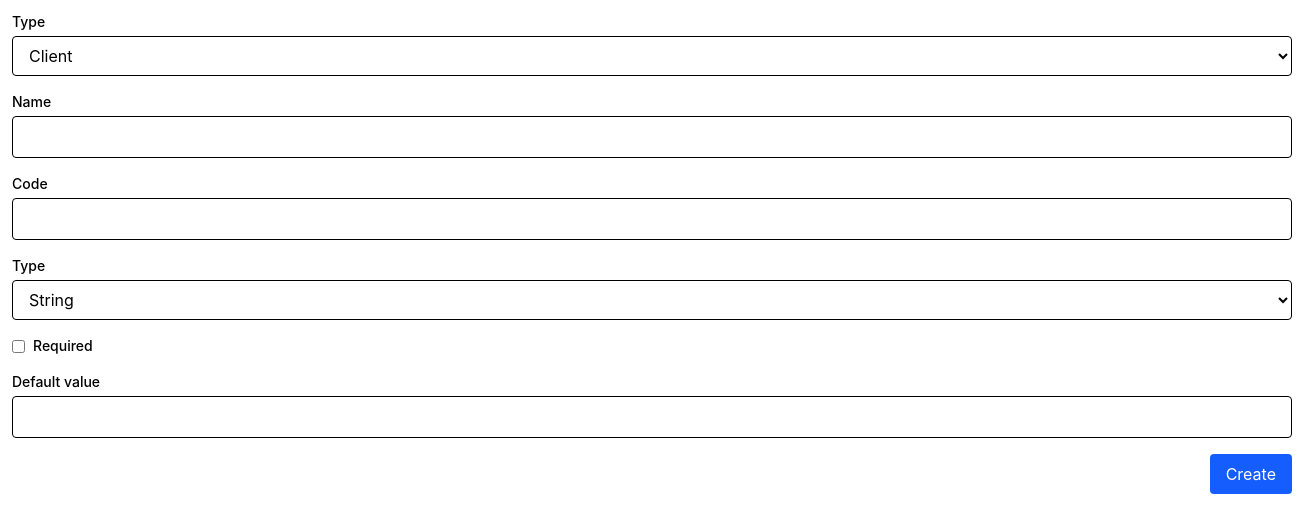
Test: EavAttributeForm › auto-generates code by transliterating Cyrillic names
Step 1. Type "Дата рождения" into the field labelled "Name" → (652, 137), box [12,116,1292,158]
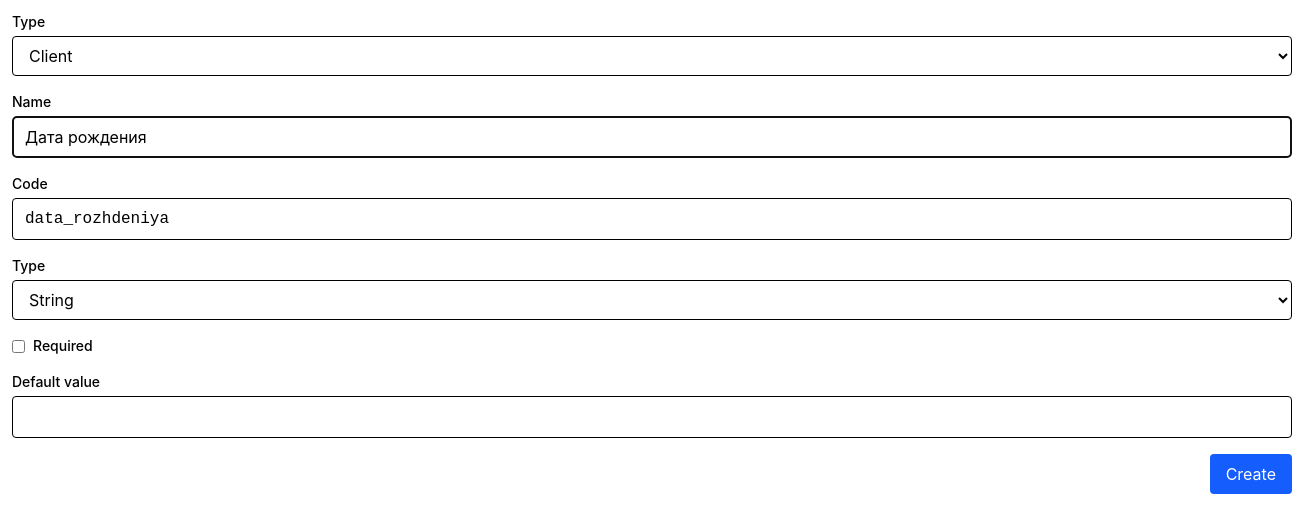
Check: the field labelled "Code" holds "data_rozhdeniya", box [12,198,1292,240]
